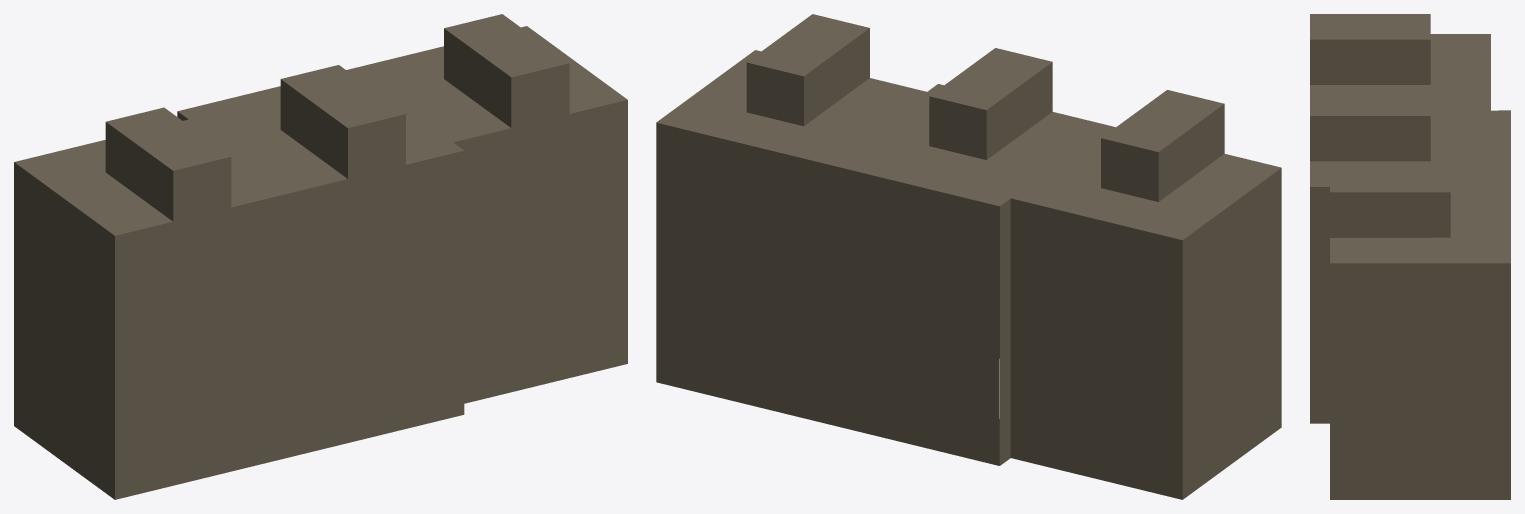
File: AppartmentLOD.fbx
The picture shows the model from 3 angles, left to right: view 1: azimuth 30°, elevation 25°; view 2: azimuth 150°, elevation 25°; view 3: azimuth 270°, elevation 25°; orthographic projection. The views are drawn at different scales.
Visible parts, largest first — view 1: Appartment.001; view 2: Appartment.001; view 3: Appartment.001.
Boxes of the visible parts, bbox=[...] form: Appartment.001: bbox=[14, 14, 627, 499]; Appartment.001: bbox=[656, 14, 1281, 499]; Appartment.001: bbox=[1310, 14, 1510, 499].
Size of the model in its own units: 2700 by 1550 by 1000.
